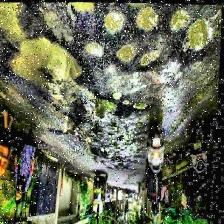pothole: (8, 32, 86, 100), (186, 17, 216, 53), (0, 2, 28, 40), (136, 3, 160, 33), (169, 6, 191, 34), (95, 95, 119, 119), (104, 10, 126, 36), (116, 42, 138, 64), (140, 48, 160, 68), (65, 1, 95, 14), (86, 40, 104, 57), (121, 2, 151, 8), (134, 102, 150, 110), (113, 89, 123, 101)
